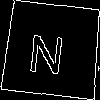N: (26, 25, 68, 76)
